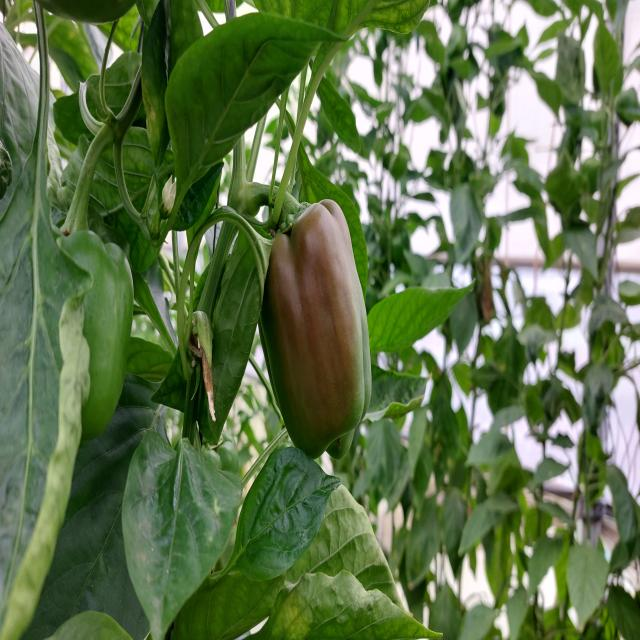BrownishRed--Can-be-Harvested: (260, 209, 378, 472)
